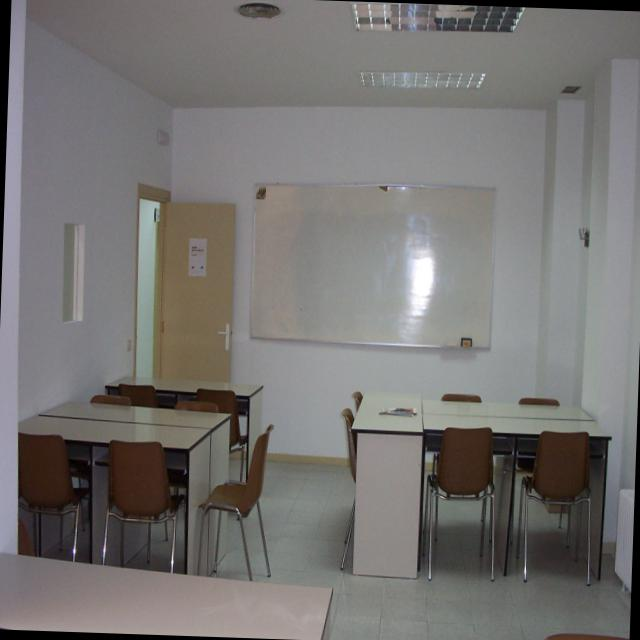ceiling beam: (25, 0, 640, 109)
whiteboard: (249, 182, 493, 347)
